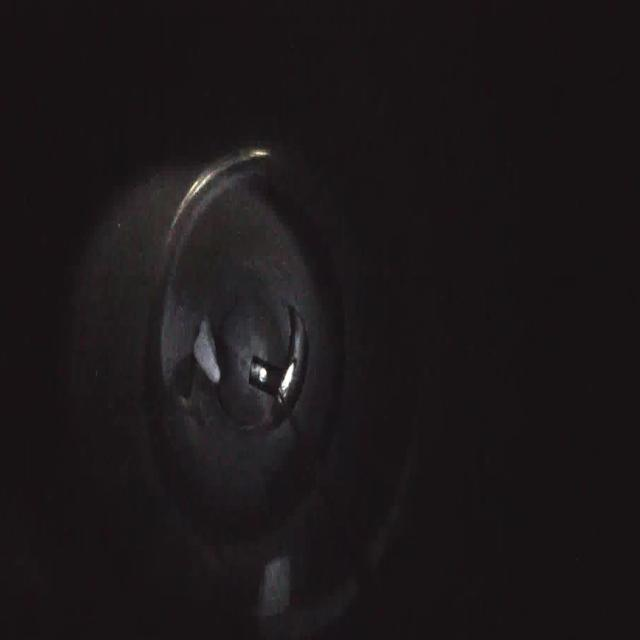impurity: (190, 308, 226, 386)
